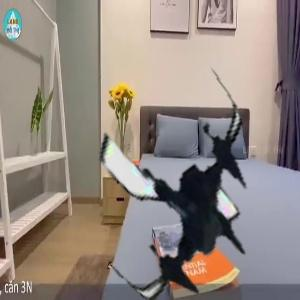drone: (65, 76, 288, 299)
